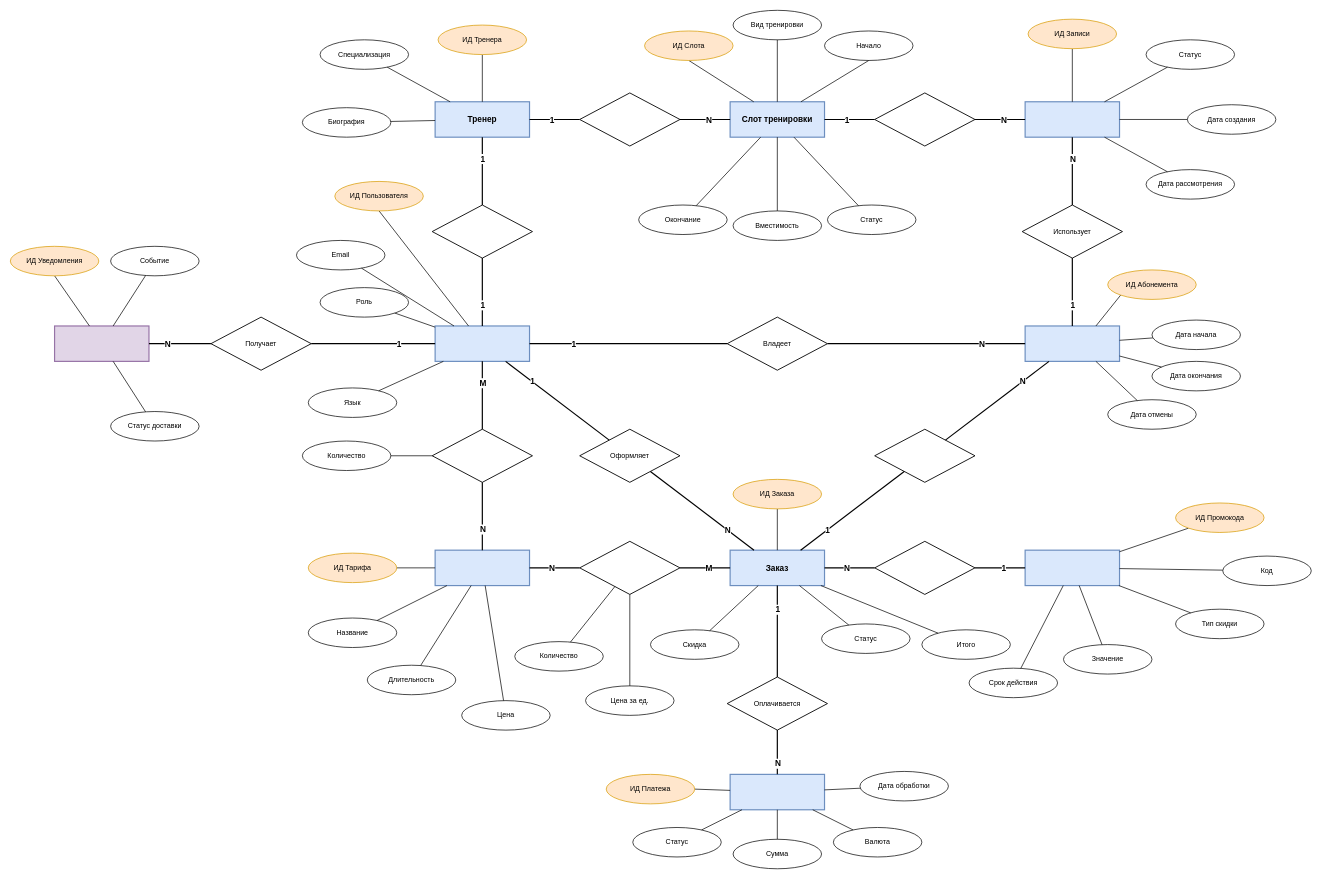
The diagram is 1322 pixels wide and 880 high, and some of its shapes have lost their labels. Each missing label, with the centre of its shape:
Абонемент: [1072,343]
В корзине: [482,456]
Включает: [924,119]
Выдаётся по: [924,456]
Запись на тренировку: [1072,119]
Платёж: [777,791]
Пользователь: [482,343]
Применяется: [924,568]
Проводит: [629,119]
Промокод: [1072,567]
Содержит: [629,568]
Тариф абонемента: [482,567]
Уведомление: [101,343]
Является: [482,231]
